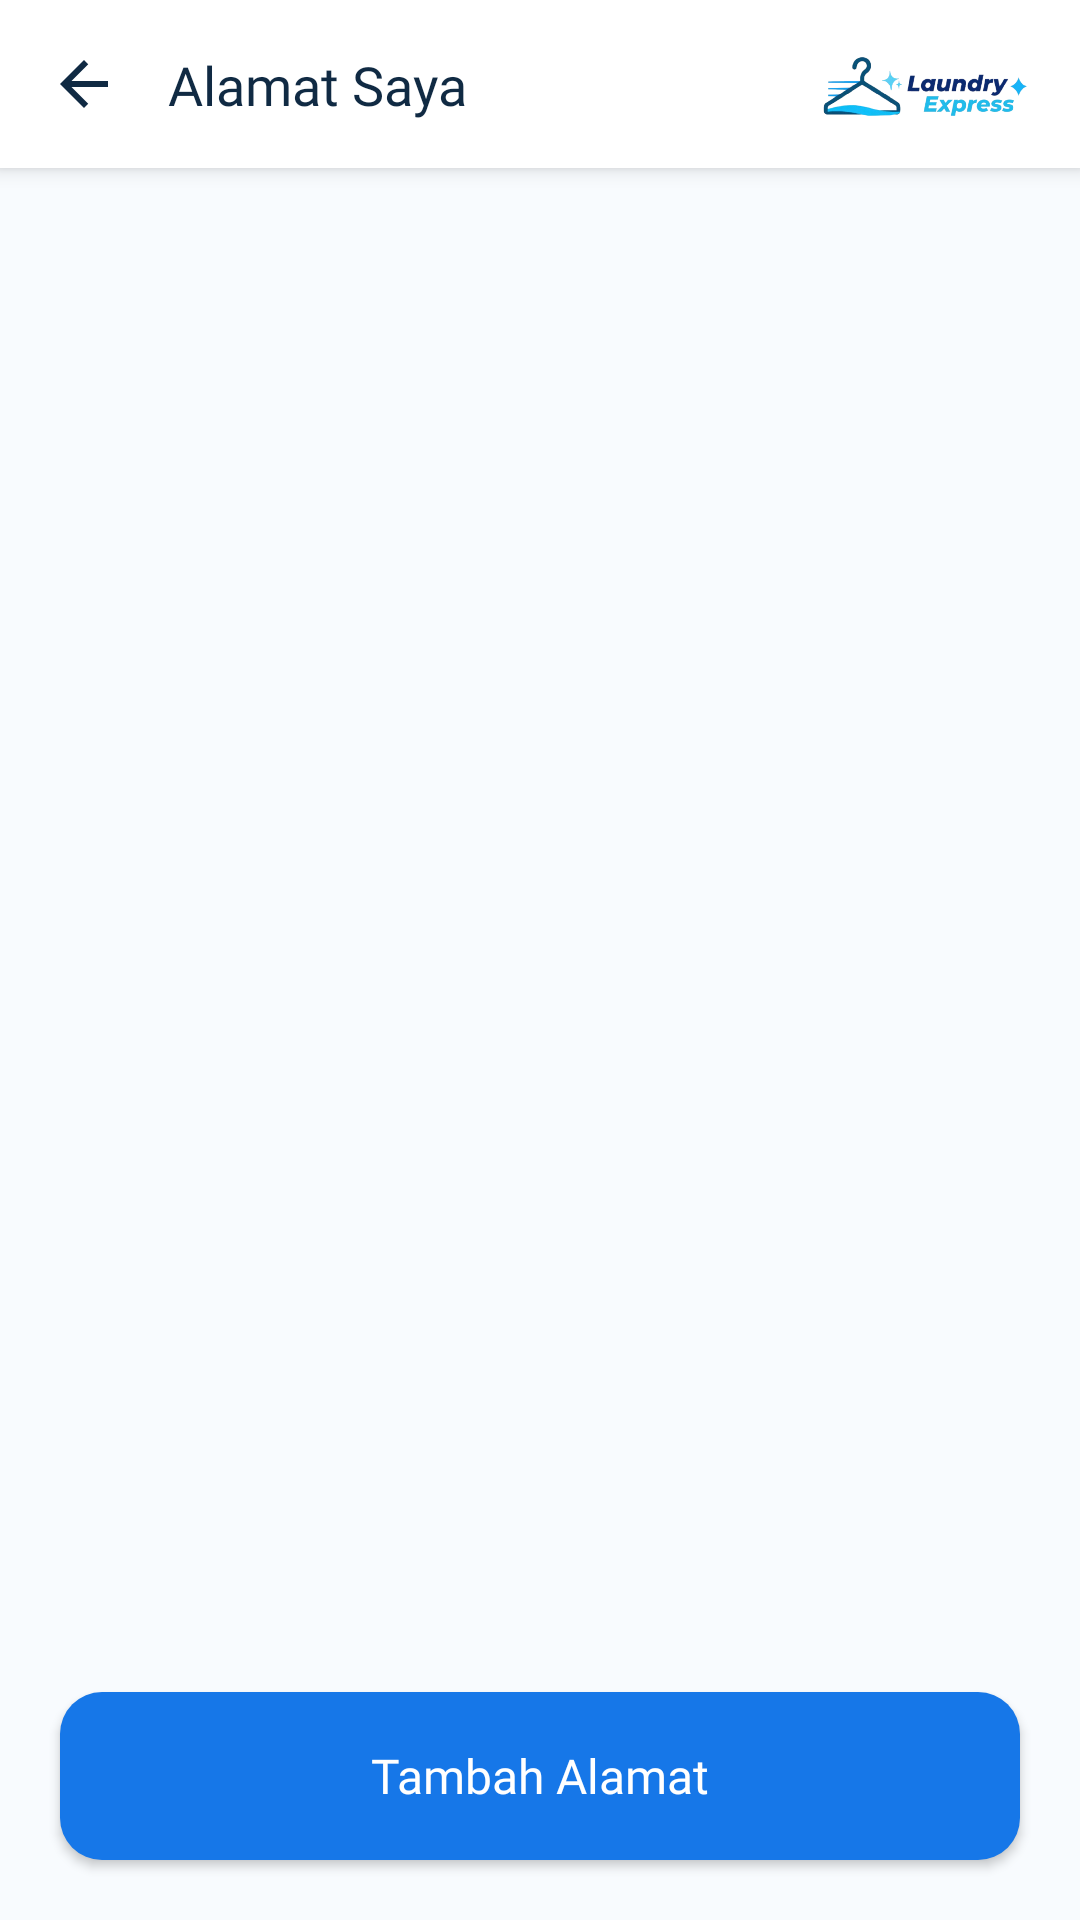

Icons on this 1080*1920 Android screen, each with its box as rect(x1, y1, x2, y2):
Kembali: rect(60, 60, 108, 108)
